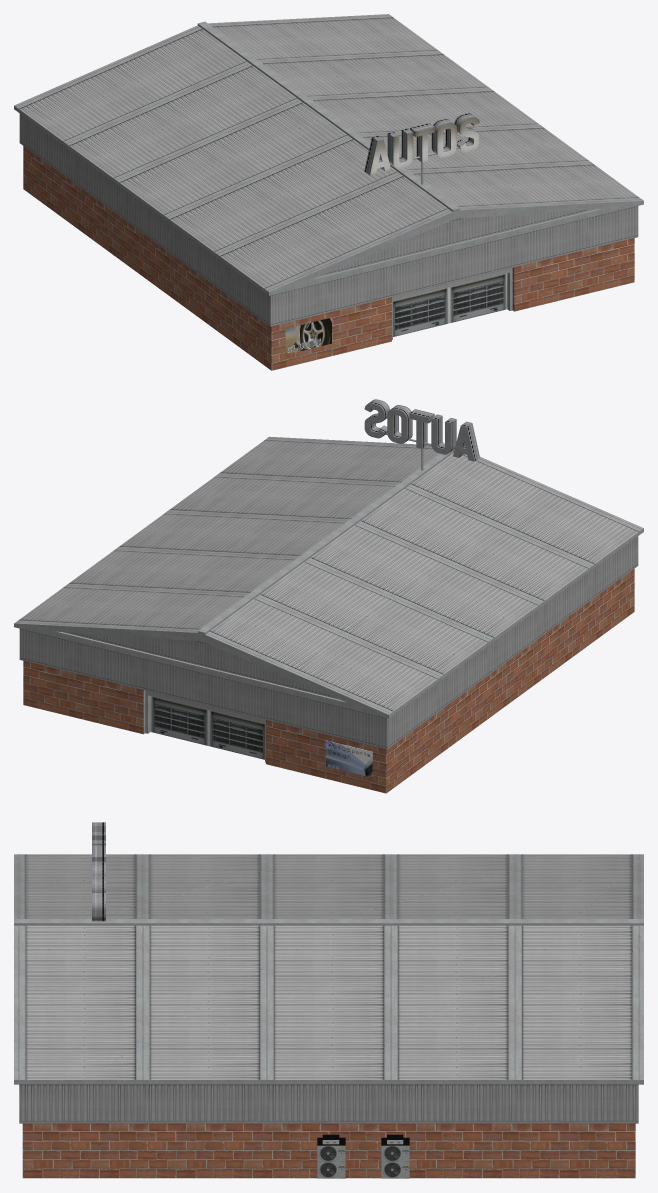
File: Buildings06.fbx
The picture shows the model from 3 angles, top to bottom: view 1: azimuth 30°, elevation 25°; view 2: azimuth 150°, elevation 25°; view 3: azimuth 270°, elevation 25°; orthographic projection. The views are drawn at different scales.
Parts seen in each view (by area): view 1: Empty_Mesh; view 2: Empty_Mesh; view 3: Empty_Mesh.
Boxes of the visible parts, left/top/right/bottom form: Empty_Mesh: left=14, top=14, right=643, bottom=370; Empty_Mesh: left=14, top=399, right=643, bottom=793; Empty_Mesh: left=14, top=822, right=643, bottom=1178.
Bounding box in the file's own units: 50.93 × 22.55 × 58.89.
